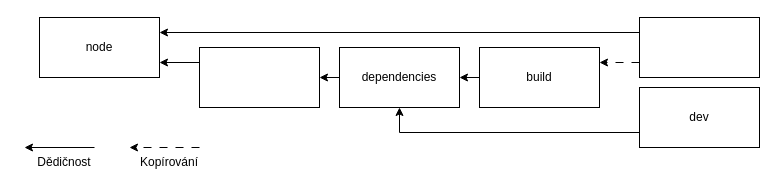
Some shapes in this 777 by 195 pixel diagram are drawn without their labels. Each missing label, with the centre of its shape:
"base" goes at [259,77].
"runtime" goes at [699,47].
